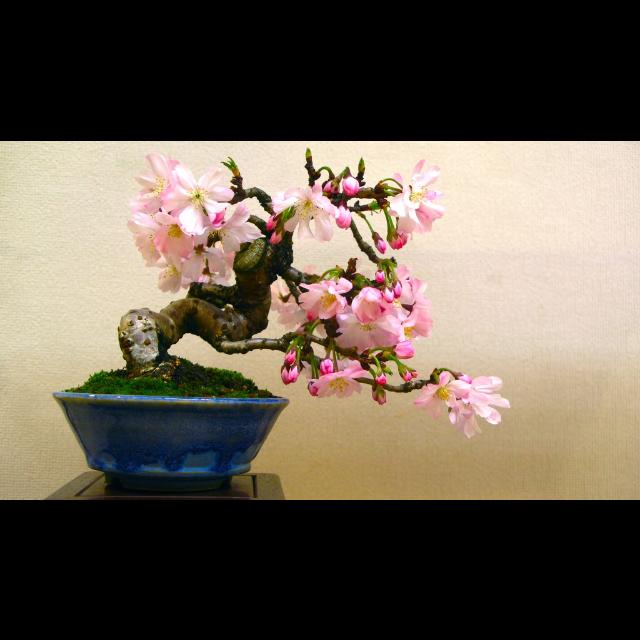Flower: (271, 259, 435, 401), (125, 149, 268, 295), (422, 366, 511, 436), (388, 155, 444, 237), (276, 178, 338, 244), (418, 370, 452, 420)
